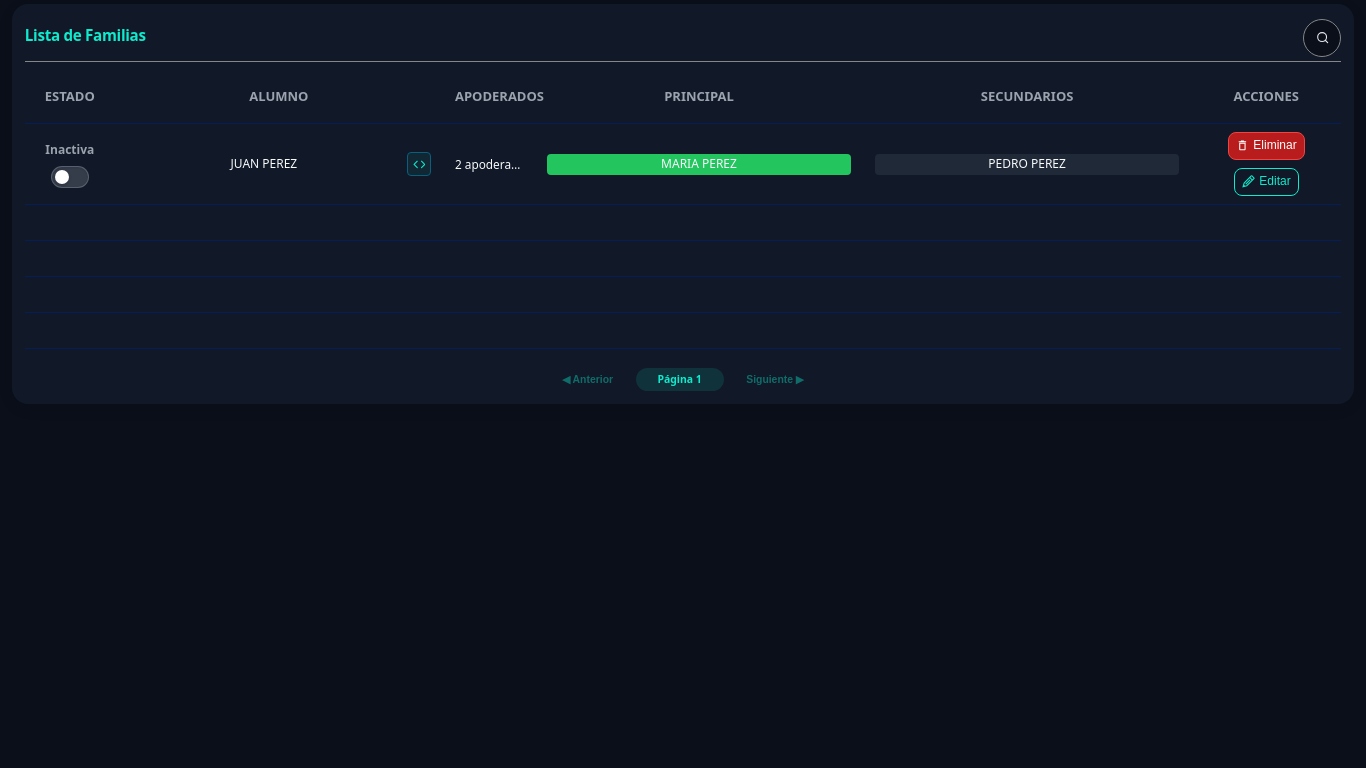
Test case: FamiliaList › [FamiliaList #03] permite revelar los códigos desde el alumno
Expected: the column heading "Código familia" is not shown
Click the button named "Ver códigos" at (419, 164), box x1=407 y1=152 x2=431 y2=176
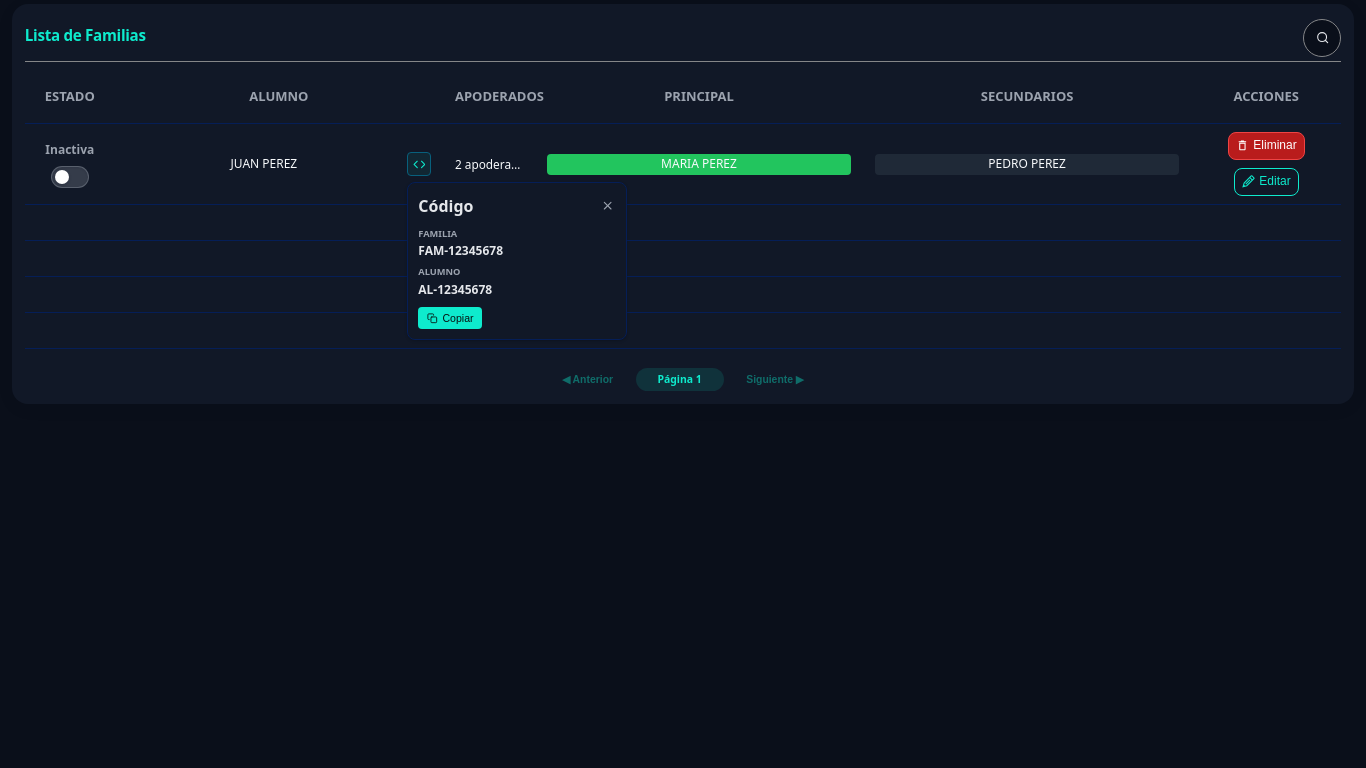
Expected: the dialog named "Código de registro" is shown, x1=407 y1=182 x2=627 y2=340
Expected: the text "FAM-12345678" is shown, x1=418 y1=242 x2=503 y2=259
Expected: the text "AL-12345678" is shown, x1=418 y1=281 x2=492 y2=298
